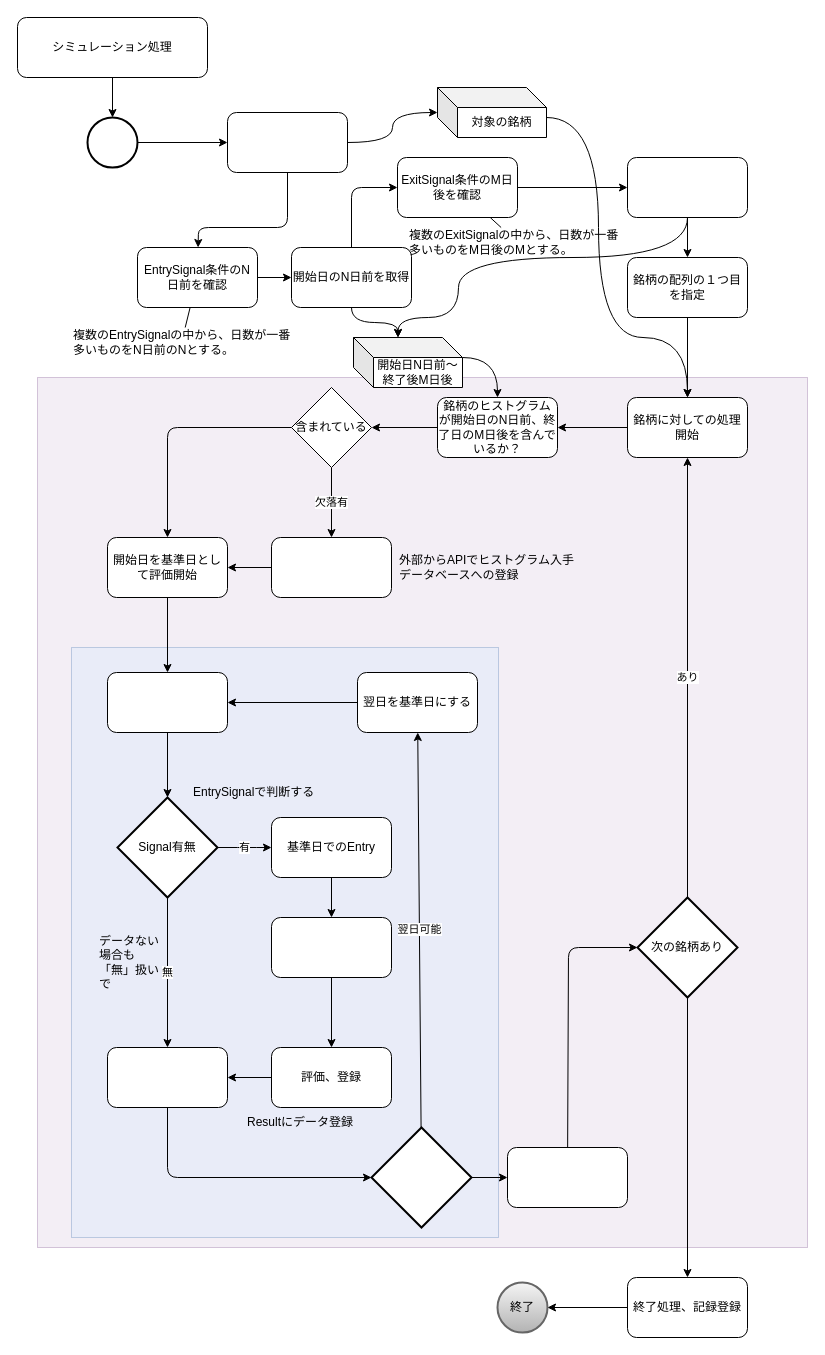
Image size: 825x1355. Some labels were removed from this diagram. The shapes that lost their labels are listed below. From the top down, each one's centre as x and y in pixels, then its label:
point 112,142: 開始
point 287,142: 対象の銘柄の選別
point 687,187: 終了日のM日後を取得
point 331,567: 開始日N日前、終了日M日後のデータを取得
point 167,702: 基準日でのEntrySignalの評価
point 331,947: Exit日でのExit
point 167,1077: 翌日が終了日以前
point 421,1177: 終了日以前
point 567,1177: 次の銘柄へ
